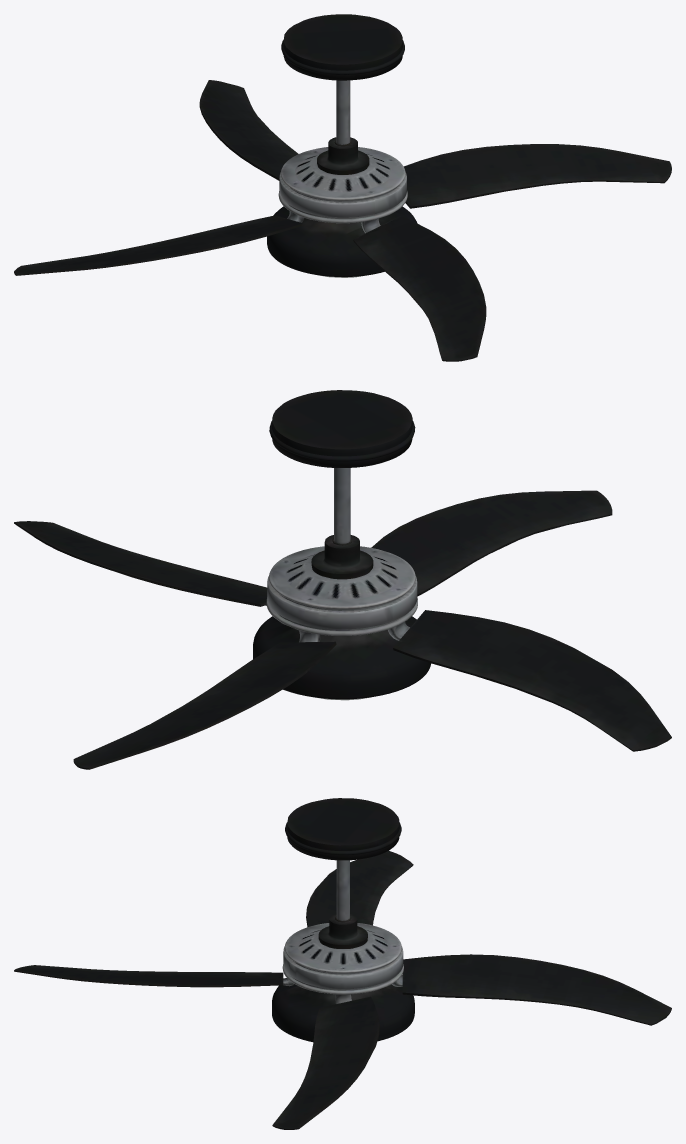
The model's file is p_ceiling_fan.glb.
3 views of the same model, one above another, from view 1: azimuth 30°, elevation 25°; view 2: azimuth 150°, elevation 25°; view 3: azimuth 270°, elevation 25° (orthographic). The views are drawn at different scales.
Visible parts, largest first — view 1: ceiling_fan; view 2: ceiling_fan; view 3: ceiling_fan.
Part boxes in pixels (x1=…): ceiling_fan: x1=14, y1=14, x2=671, y2=361; ceiling_fan: x1=14, y1=390, x2=671, y2=769; ceiling_fan: x1=14, y1=798, x2=671, y2=1129.
Bounding box in the file's own units: 1.46 × 0.5163 × 1.46.
Materials: 1 (1 with a texture image).
